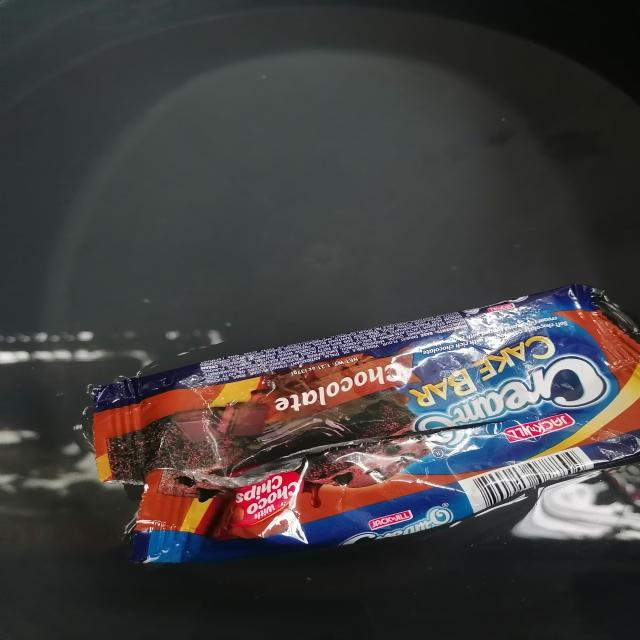Plastic Wrapper: (66, 270, 640, 578)
